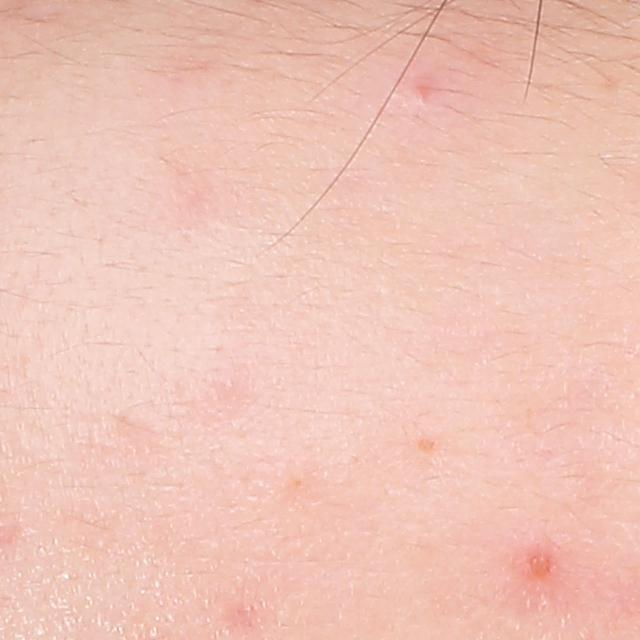papule: (523, 549, 565, 584)
